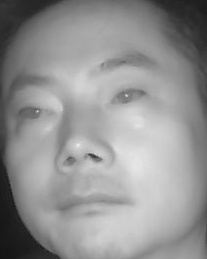eye: (107, 85, 146, 107), (14, 103, 53, 123)
mouth: (55, 183, 131, 226)
